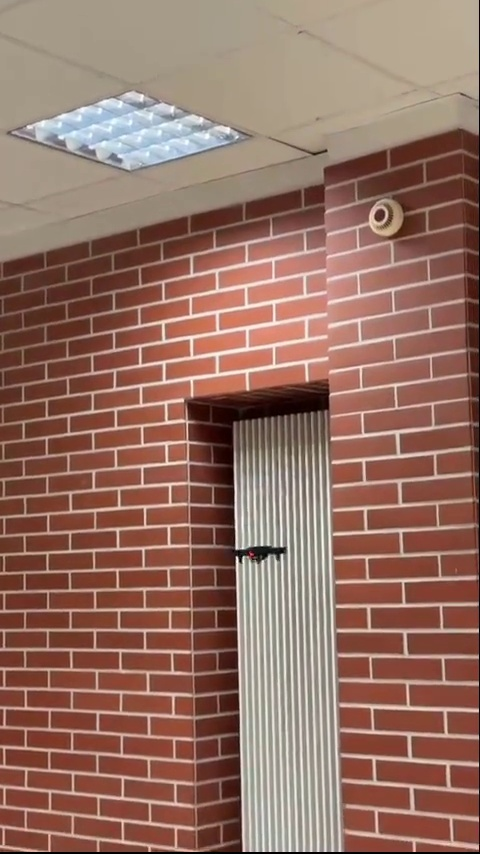drone: (232, 541, 286, 565)
